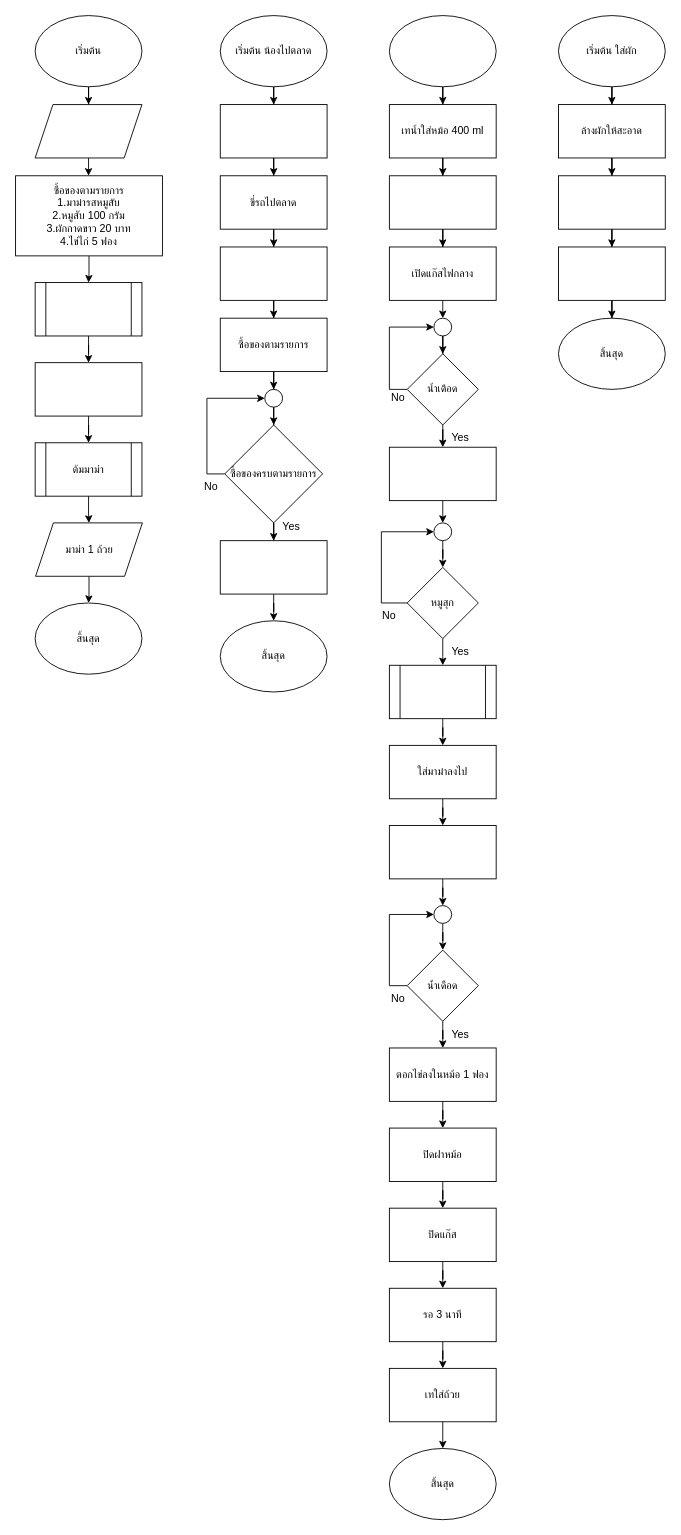
Some shapes in this 681 by 1535 pixel diagram are drawn without their labels. Here are the shapes that lost their labels. From the top down, the box of each, then its label:
(388, 15, 496, 87): เริ่มต้น ต้มมาม่า
(34, 104, 142, 158): ให้เงิน 500 บาท
(219, 104, 327, 158): สตาร์ทรถ
(388, 175, 496, 229): ตั้งหม้อบนเตา
(558, 175, 665, 229): หักส่วนหัวทิ้ง
(219, 246, 327, 300): ถึงตลาด
(558, 246, 665, 300): หันผักกาดขาวเป็นชั้นพอดีคำ
(34, 282, 142, 336): น้องไปตลาด
(34, 362, 142, 416): ถึงบ้าน
(388, 446, 496, 501): ใส่หมูสับลงไป
(219, 540, 327, 594): กลับบ้าน
(388, 664, 496, 719): ใส่ผัก
(388, 825, 496, 879): ใส่เครื่องปรุง
